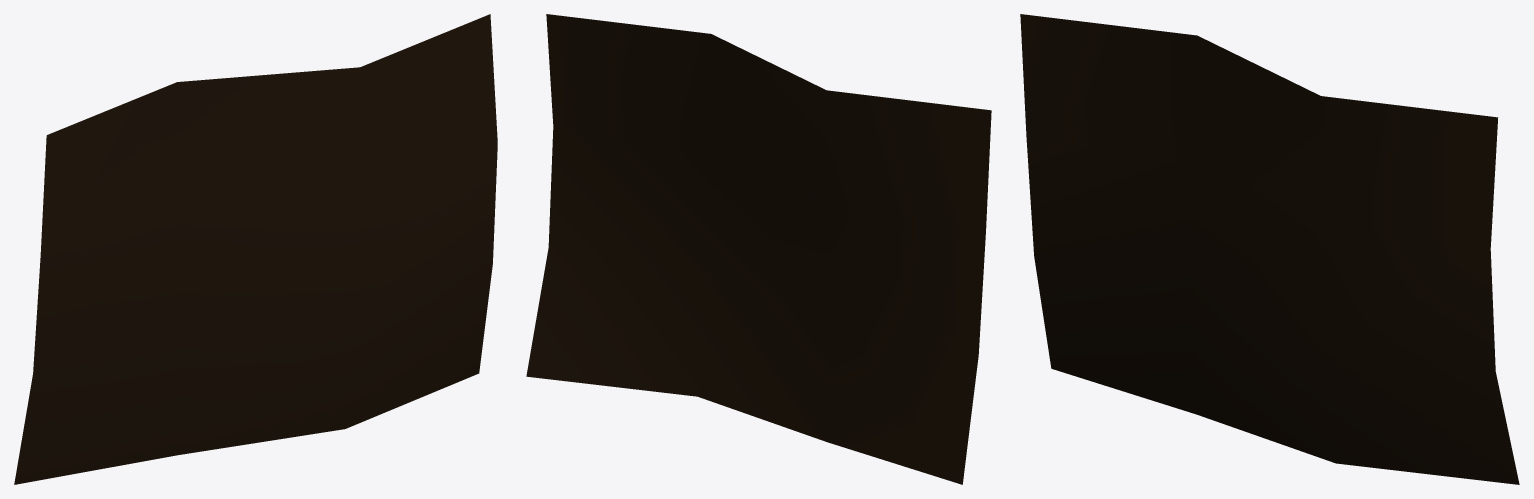
The model's file is Roots01.fbx.
3 views of the same model, side by side, from view 1: azimuth 30°, elevation 25°; view 2: azimuth 150°, elevation 25°; view 3: azimuth 330°, elevation 25° (orthographic). The views are drawn at different scales.
Parts seen in each view (by area): view 1: pPlane1; view 2: pPlane1; view 3: pPlane1.
Boxes of the visible parts, x1=… form: pPlane1: x1=14, y1=14, x2=497, y2=484; pPlane1: x1=526, y1=14, x2=991, y2=484; pPlane1: x1=1020, y1=14, x2=1519, y2=484.
Bounding box in the file's own units: 21.4 × 16.46 × 3.31.
